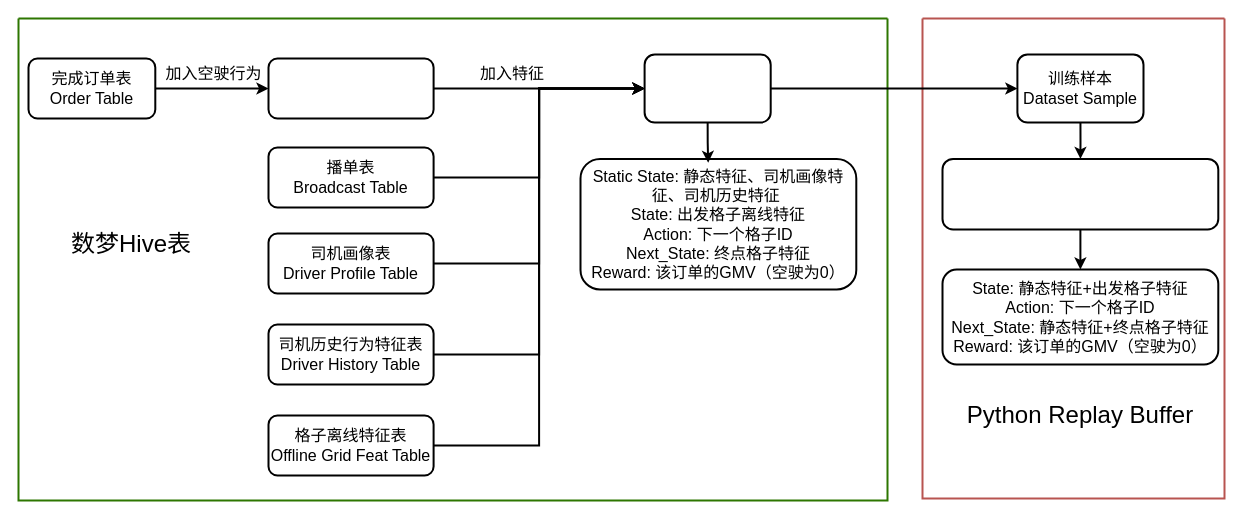
This 1242x518 diagram has some shape labels left out. Each missing label, with the centre of its shape:
"ReplayBuffer: <s, a, s', r>" belongs at [1080,193].
"训练样本 Training Sample" belongs at [707,88].
"轨迹表 Transition Table" belongs at [350,88].
